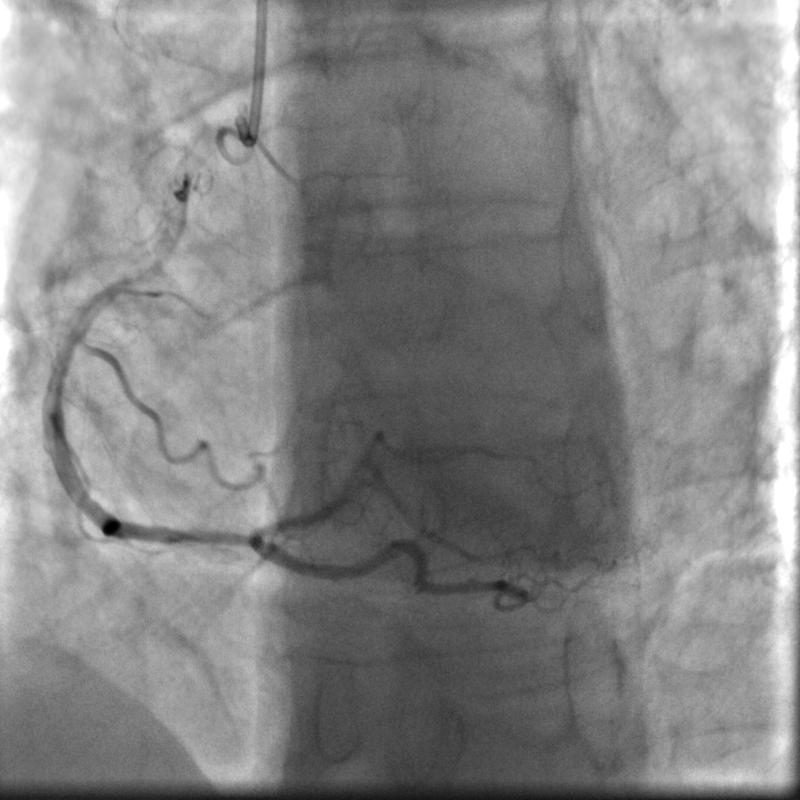Stenosis: (160, 514, 253, 561)
